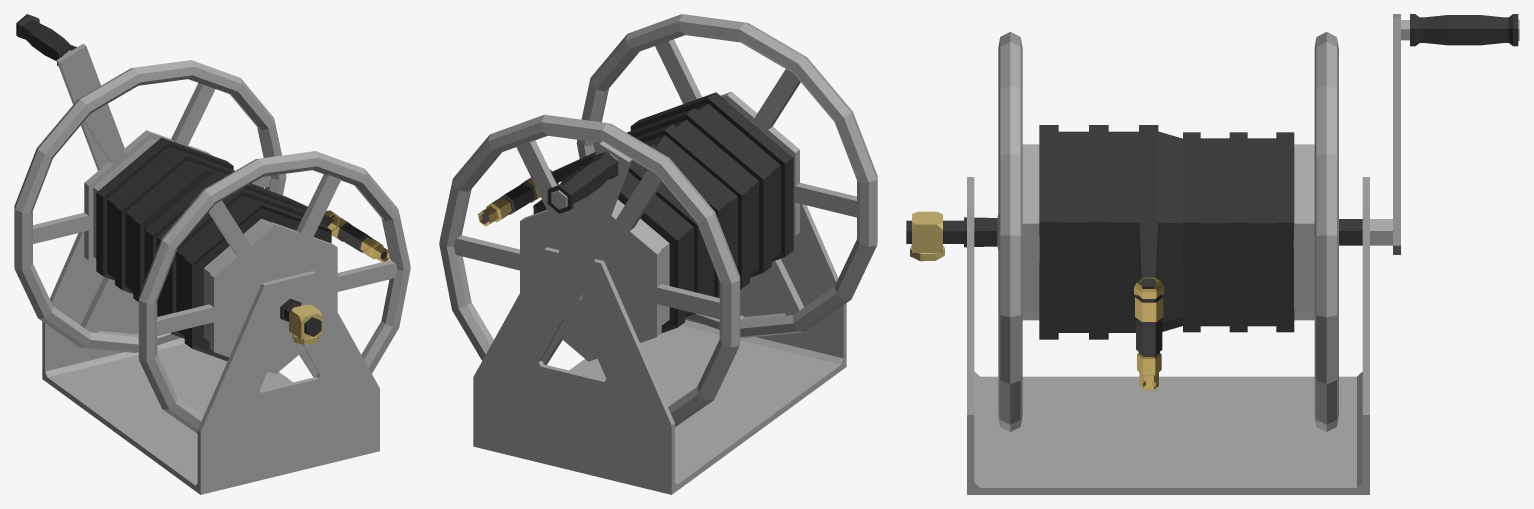
File: hose-reel.glb
3 views of the same model, side by side, from view 1: azimuth 30°, elevation 25°; view 2: azimuth 150°, elevation 25°; view 3: azimuth 270°, elevation 25° (orthographic). The views are drawn at different scales.
Parts seen in each view (by area): view 1: Main, Handle, E_1, Hose; view 2: Main, Handle, Hose; view 3: Main, Handle, Hose, E_1.
Part boxes in pixels (x1,y1,x2,y2): Main: (14, 44, 410, 494); Handle: (16, 14, 387, 361); E_1: (289, 304, 322, 344); Hose: (325, 210, 389, 261); Main: (439, 14, 877, 494); Handle: (482, 92, 793, 333); Hose: (477, 169, 558, 226); Main: (967, 14, 1519, 494); Handle: (906, 14, 1518, 356); Hose: (1134, 277, 1164, 390); E_1: (910, 211, 944, 261).
Bounding box in the file's own units: 0.8139 × 0.8001 × 1.12.
